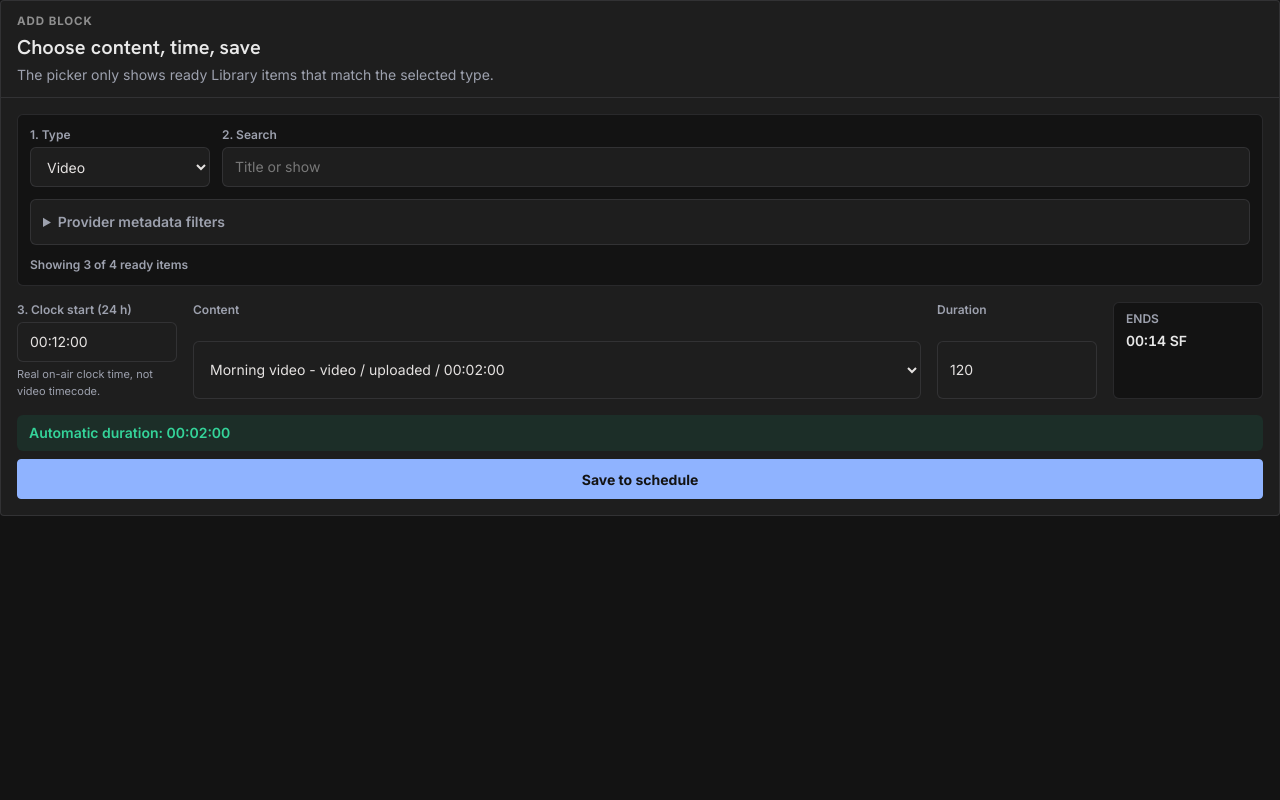
it: AgendaBlockForm › blocks save when the selected slot overlaps another block
Step 1. Replace the text in the field labelled "3. Clock start (24 h)" with "00:10:00" → (97, 342), box 17,322 -> 177,362
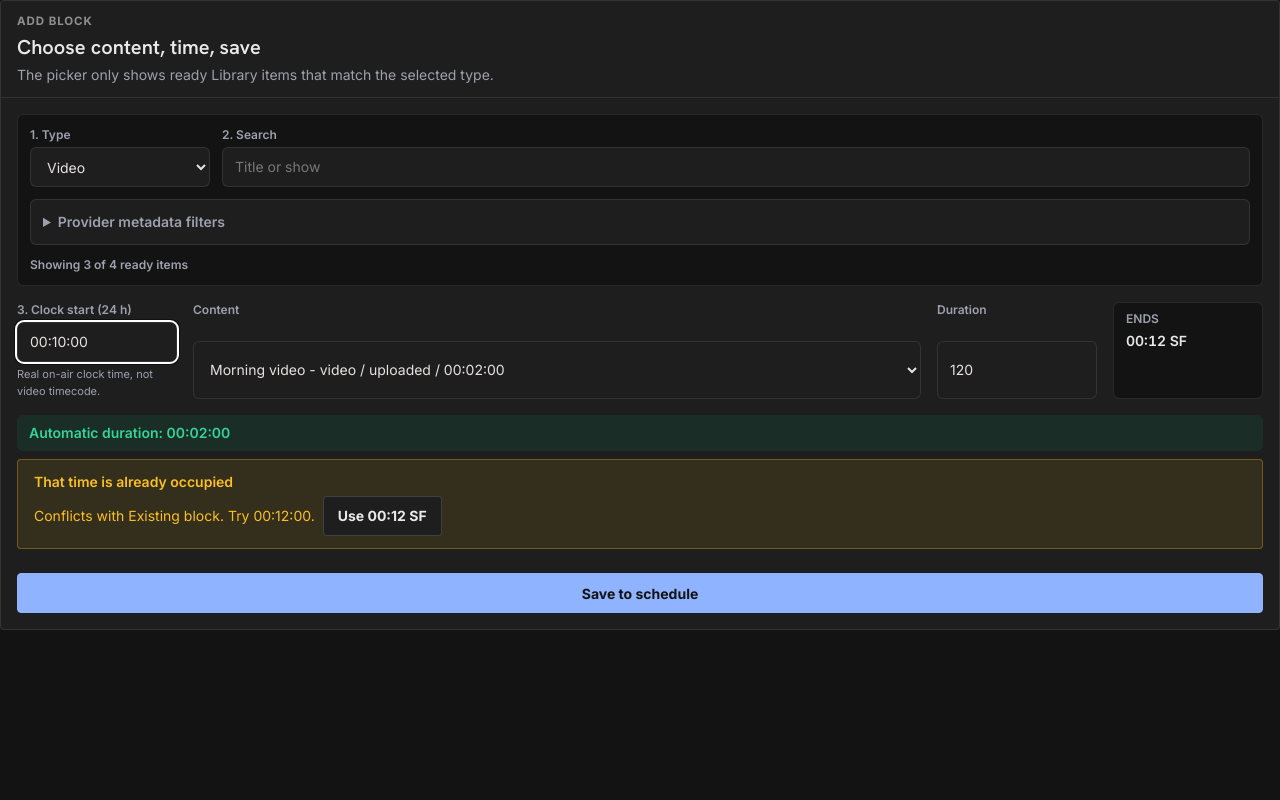
Now the button "Save to schedule" is disabled, box 17,573 -> 1263,613
Now the text "That time is already occupied" is shown, box 34,473 -> 233,490
Now the button "Use 00:12 SF" is shown, box 323,496 -> 442,536
